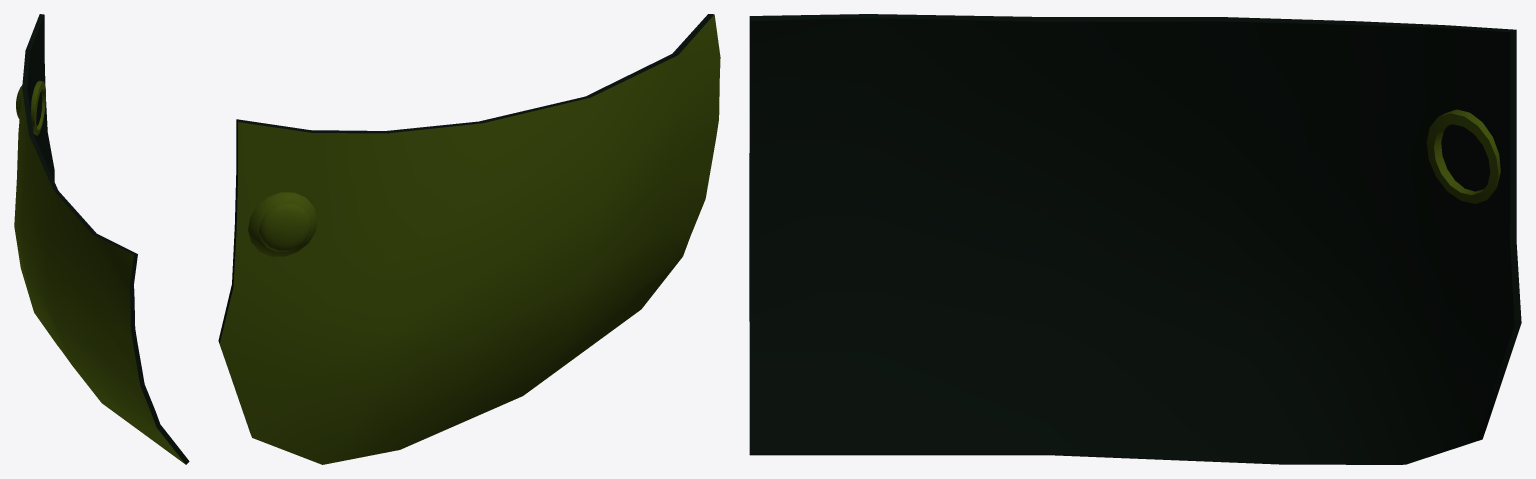
Rendered from mc_side_left_ext_back_lod01.FBX.
3 renders of one model, left to right at view 1: azimuth 30°, elevation 25°; view 2: azimuth 150°, elevation 25°; view 3: azimuth 270°, elevation 25°, orthographic. The views are drawn at different scales.
Parts seen in each view (by area): view 1: mc_side_right_ext_back; view 2: mc_side_right_ext_back; view 3: mc_side_right_ext_back.
Boxes of the visible parts, x1,y1,x2,y2 form: mc_side_right_ext_back: [14, 14, 189, 464]; mc_side_right_ext_back: [218, 14, 720, 464]; mc_side_right_ext_back: [749, 14, 1521, 464].
Bounding box in the file's own units: 20.36 × 36.92 × 53.14.
